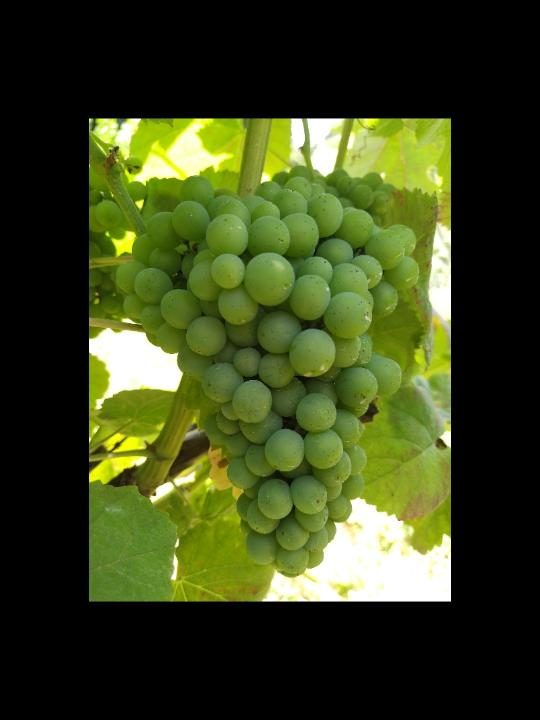grape: (116, 174, 420, 579)
